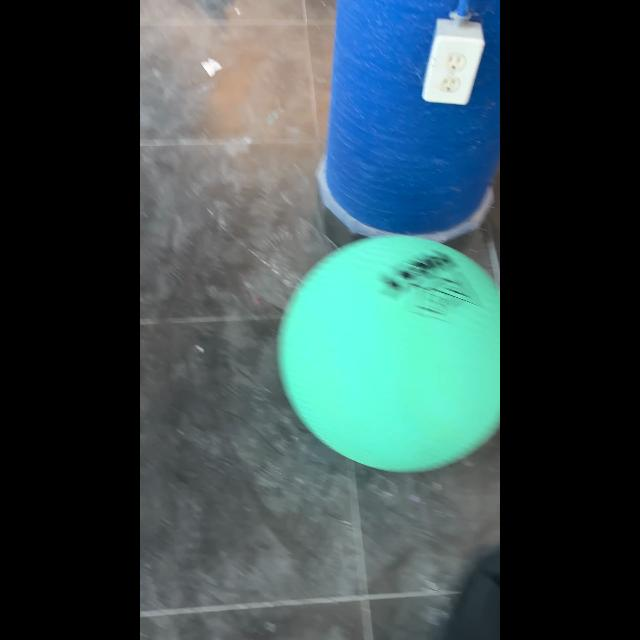ALGAE: (276, 234, 498, 474)
